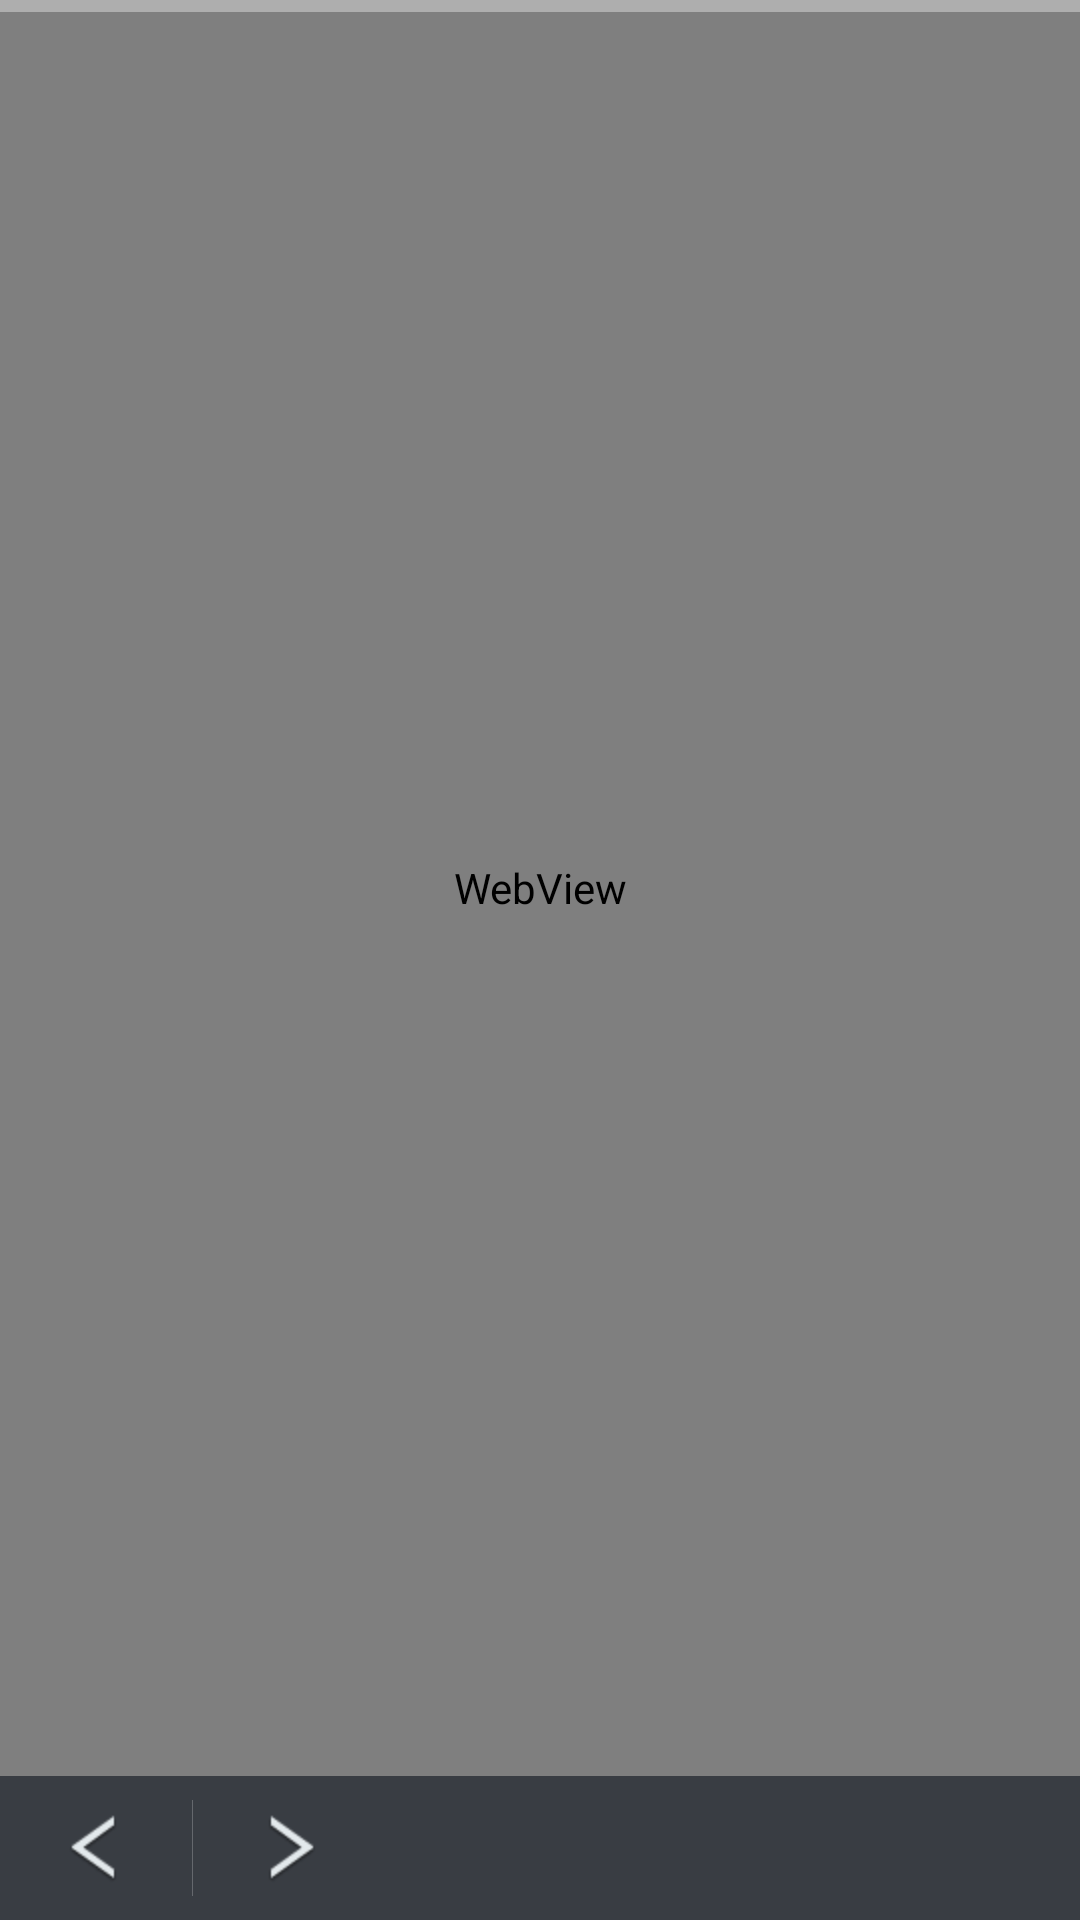

Icons on this 1080 × 1920 Android screen, each with its box as (x1, y1, x2, y2):
mxx browser toolbar goback: (71, 1816, 115, 1878)
mxx browser toolbar goforward: (270, 1816, 314, 1878)
